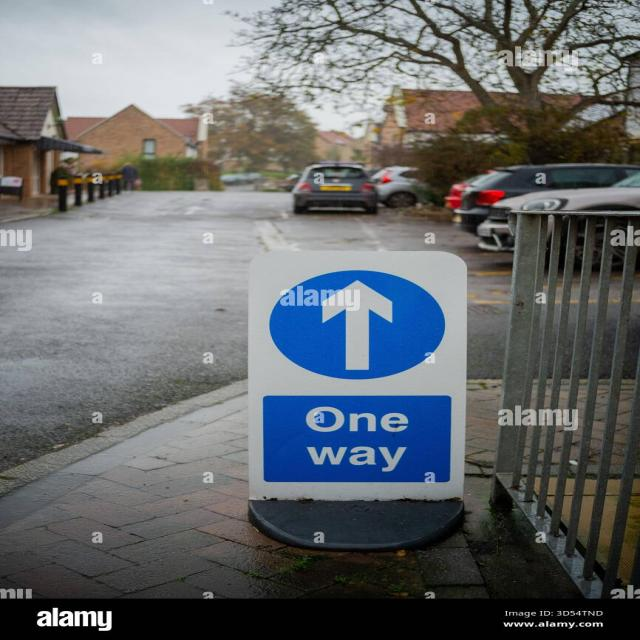STRAIGHT: (270, 270, 443, 379)
